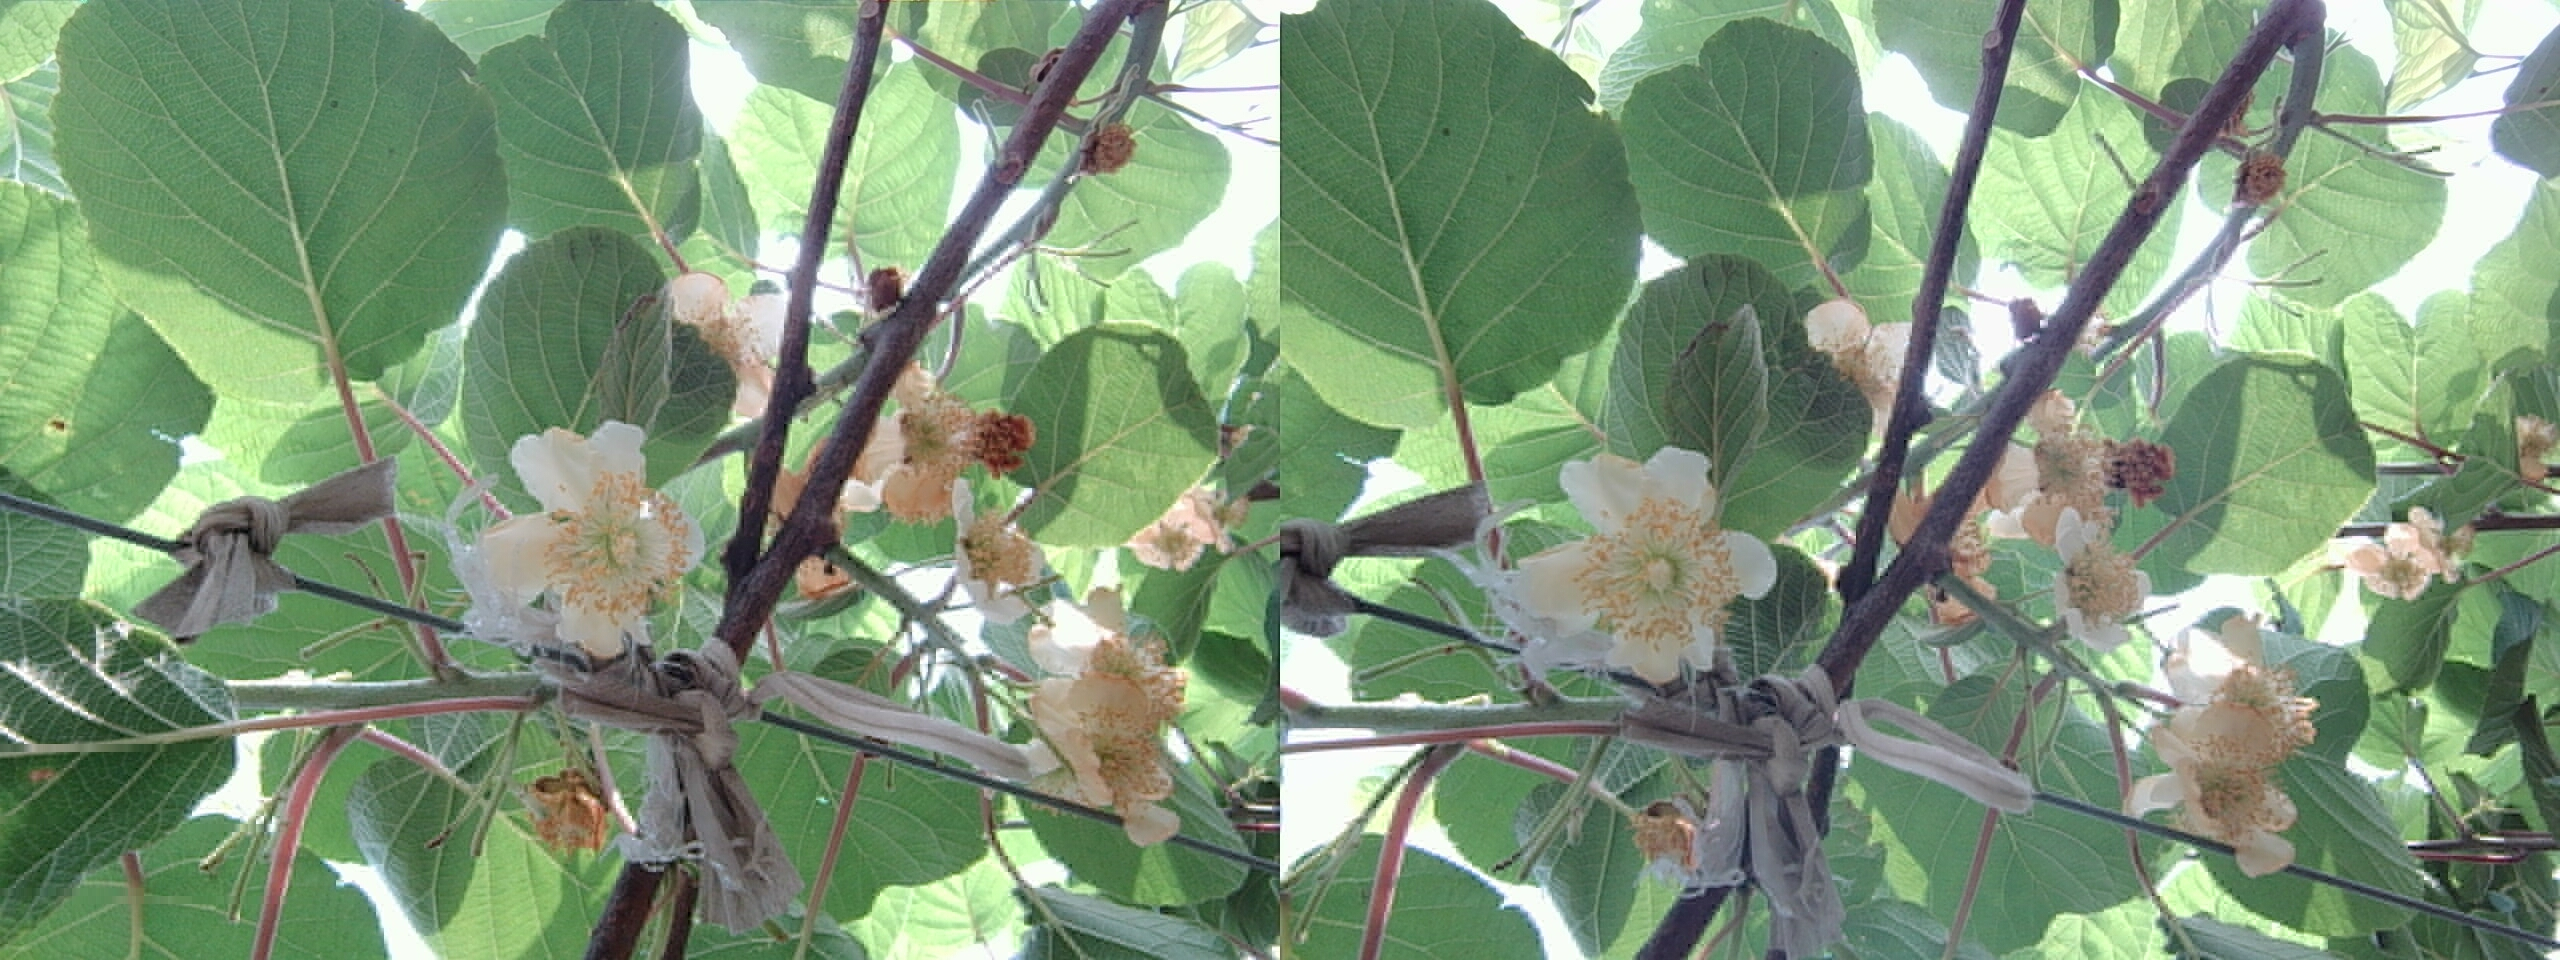flower: (1513, 444, 1773, 684), (470, 418, 702, 660), (2139, 630, 2343, 849), (1016, 606, 1190, 824), (864, 379, 1033, 519), (2010, 420, 2171, 553), (2034, 509, 2149, 620)
